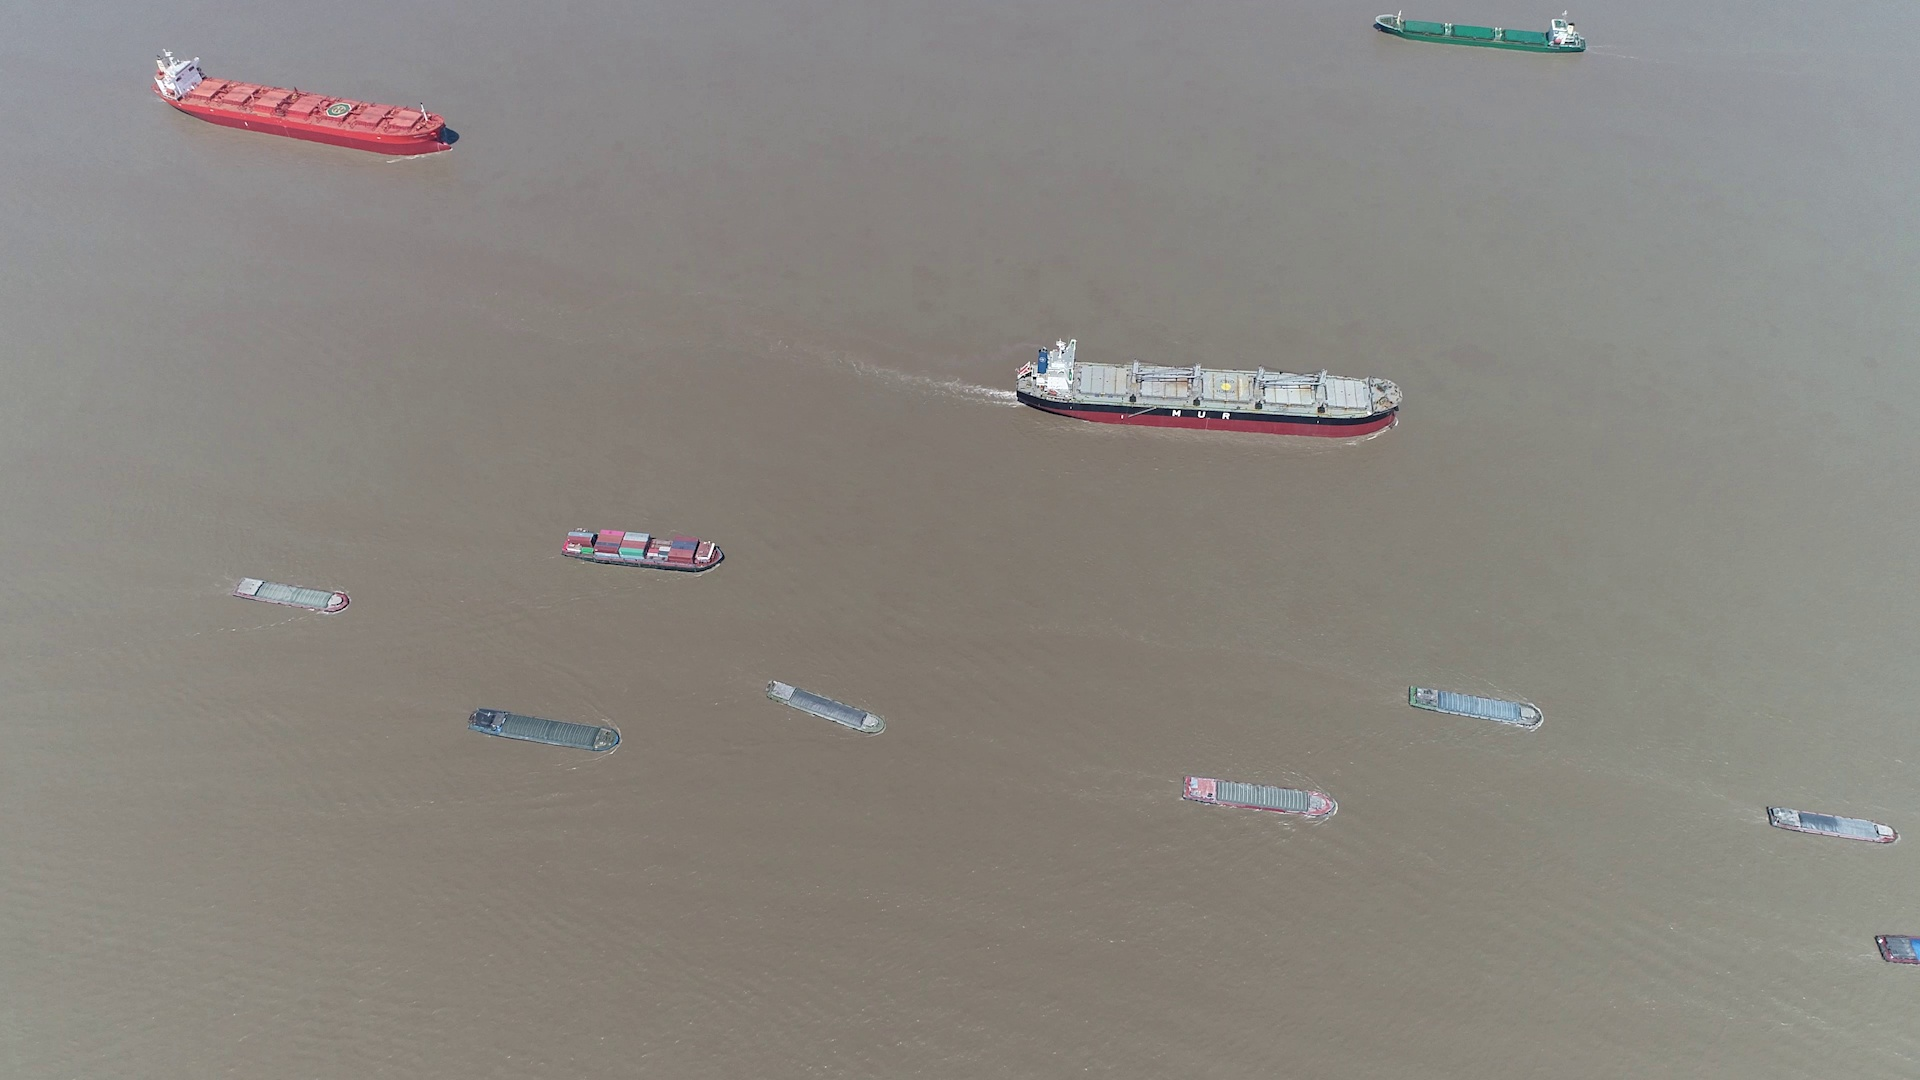ship: (1014, 340, 1402, 438), (156, 47, 454, 154), (1371, 11, 1585, 54), (560, 526, 725, 574), (468, 709, 622, 754), (767, 680, 887, 737), (1183, 775, 1336, 818), (1404, 684, 1544, 729), (1763, 806, 1898, 845), (233, 578, 349, 613), (1876, 934, 1919, 967)
